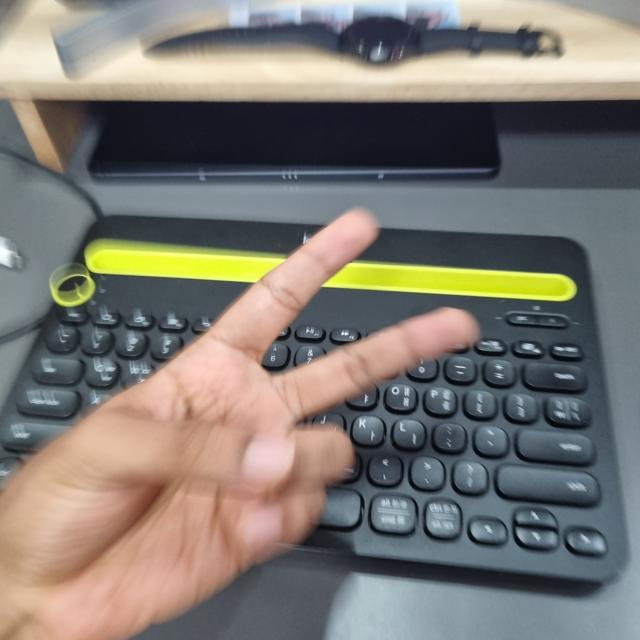Scissors: (1, 208, 474, 639)
